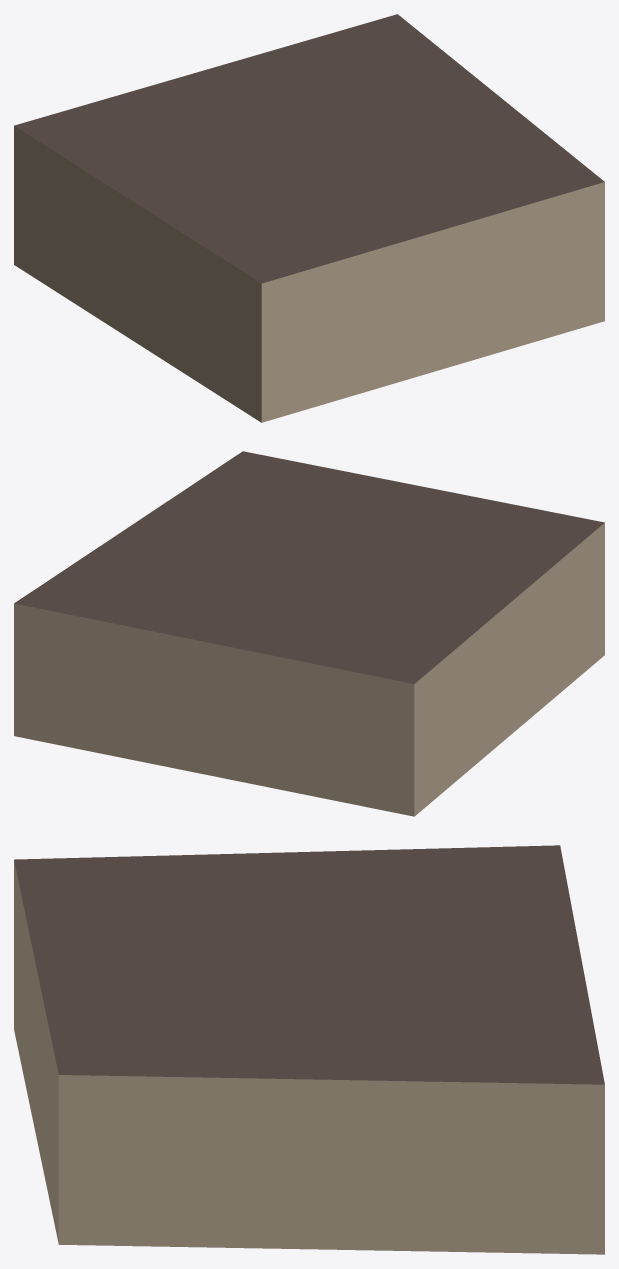
The picture shows the model from 3 angles, top to bottom: view 1: azimuth 30°, elevation 25°; view 2: azimuth 150°, elevation 25°; view 3: azimuth 270°, elevation 25°; orthographic projection. The views are drawn at different scales.
Parts seen in each view (by area): view 1: HP-w1512965872; view 2: HP-w1512965872; view 3: HP-w1512965872.
Boxes of the visible parts, x1,y1,x2,y2 form: HP-w1512965872: [14, 14, 604, 422]; HP-w1512965872: [14, 451, 604, 816]; HP-w1512965872: [14, 845, 604, 1254].
Bounding box in the file's own units: 27.19 × 9 × 28.37.
